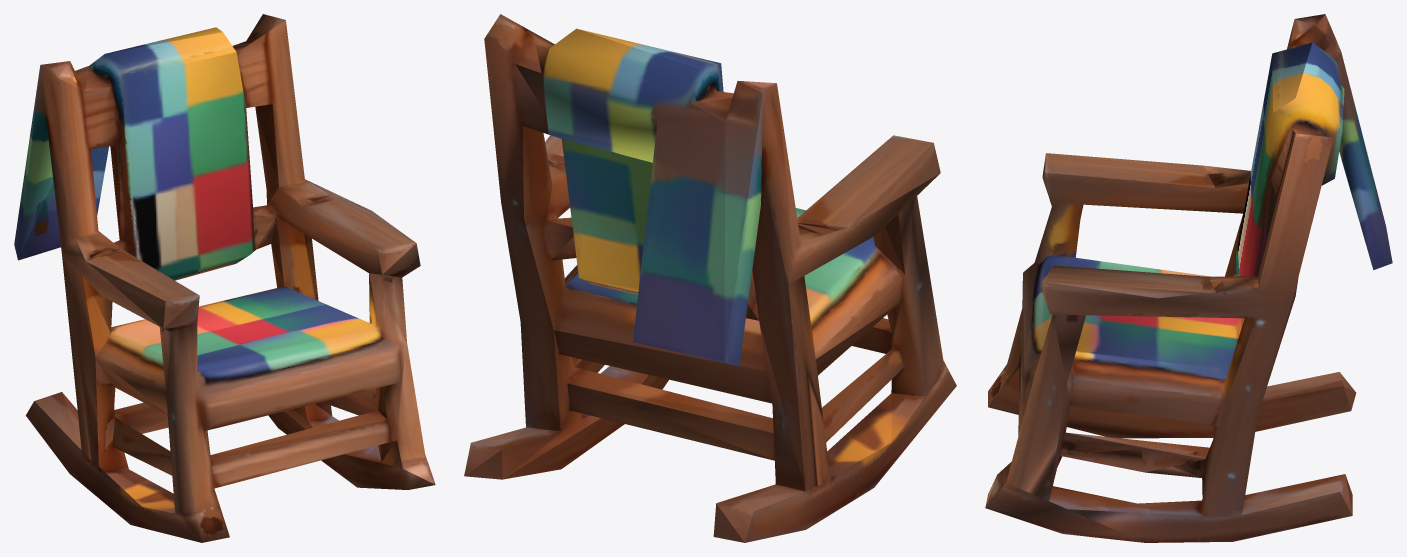
Rendered from patchwork-rocking-chair.glb.
3 renders of one model, left to right at view 1: azimuth 30°, elevation 25°; view 2: azimuth 150°, elevation 25°; view 3: azimuth 270°, elevation 25°, orthographic. The views are drawn at different scales.
Parts seen in each view (by area): view 1: geometry_0.001; view 2: geometry_0.001; view 3: geometry_0.001.
Part boxes in pixels (box(x1,y1,x2,y2)): geometry_0.001: box(14, 14, 435, 542); geometry_0.001: box(464, 14, 956, 542); geometry_0.001: box(985, 14, 1392, 542).
Bounding box in the file's own units: 0.7056 × 0.9958 × 0.8885.
Materials: 1 (1 with a texture image).
